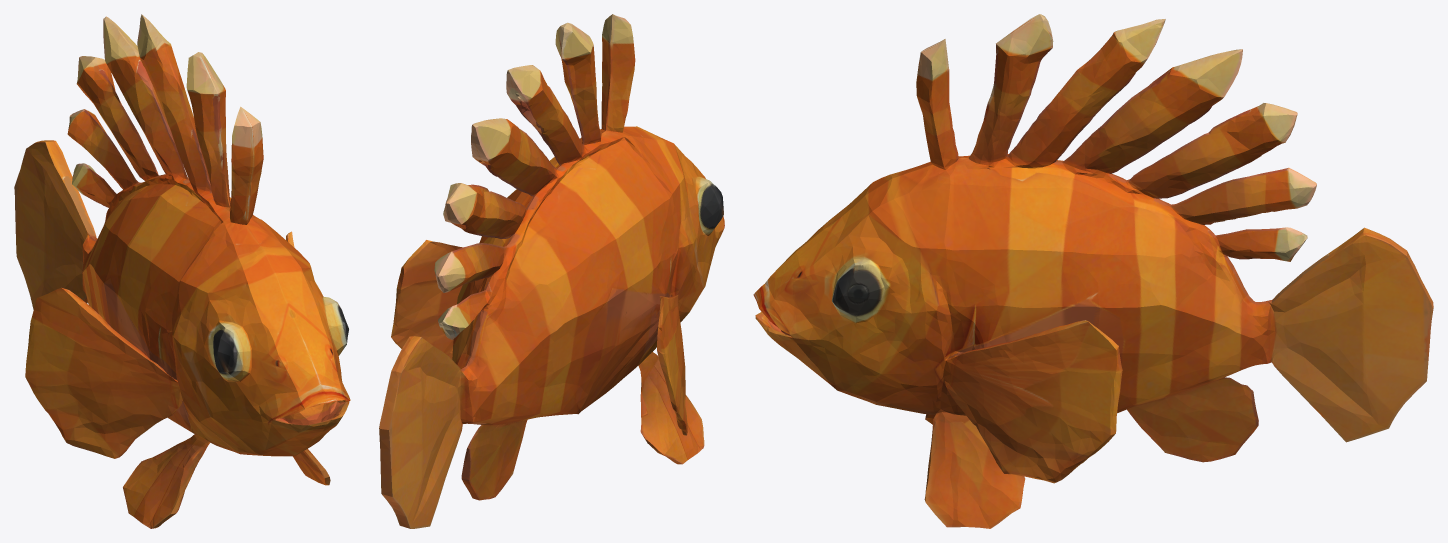
Rendered from Lionfish_Pixel_Art_0526101336_texture.fbx.
The picture shows the model from 3 angles, left to right: view 1: azimuth 30°, elevation 25°; view 2: azimuth 150°, elevation 25°; view 3: azimuth 270°, elevation 25°; orthographic projection. The views are drawn at different scales.
Parts seen in each view (by area): view 1: temp; view 2: temp; view 3: temp.
Boxes of the visible parts, x1=… form: temp: x1=14, y1=14, x2=350, y2=528; temp: x1=379, y1=14, x2=724, y2=528; temp: x1=753, y1=14, x2=1433, y2=528.
Bounding box in the file's own units: 104 × 152 × 200.
1 material, 1 textured.
